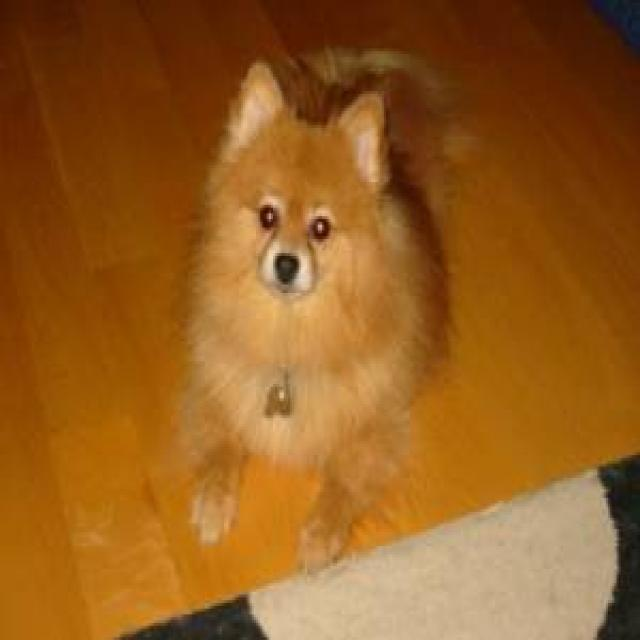dog-pomeranian: (188, 57, 452, 575)
